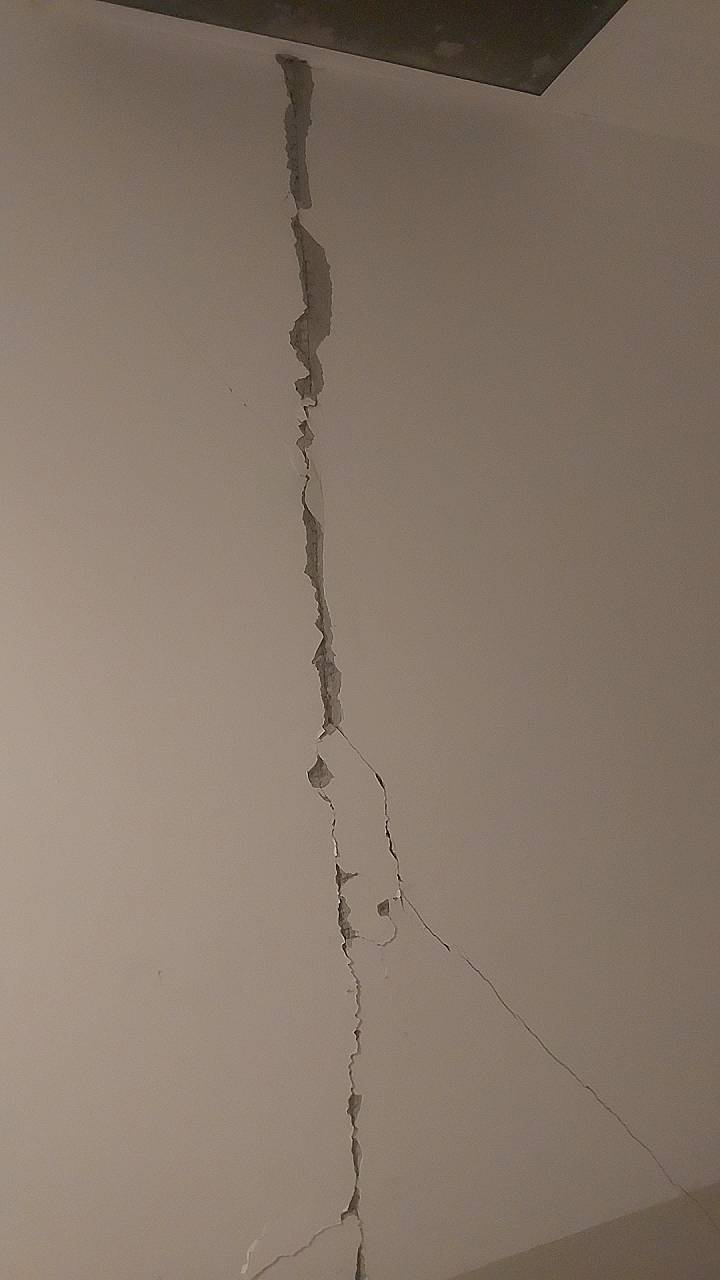Medium: (232, 111, 558, 1174)
